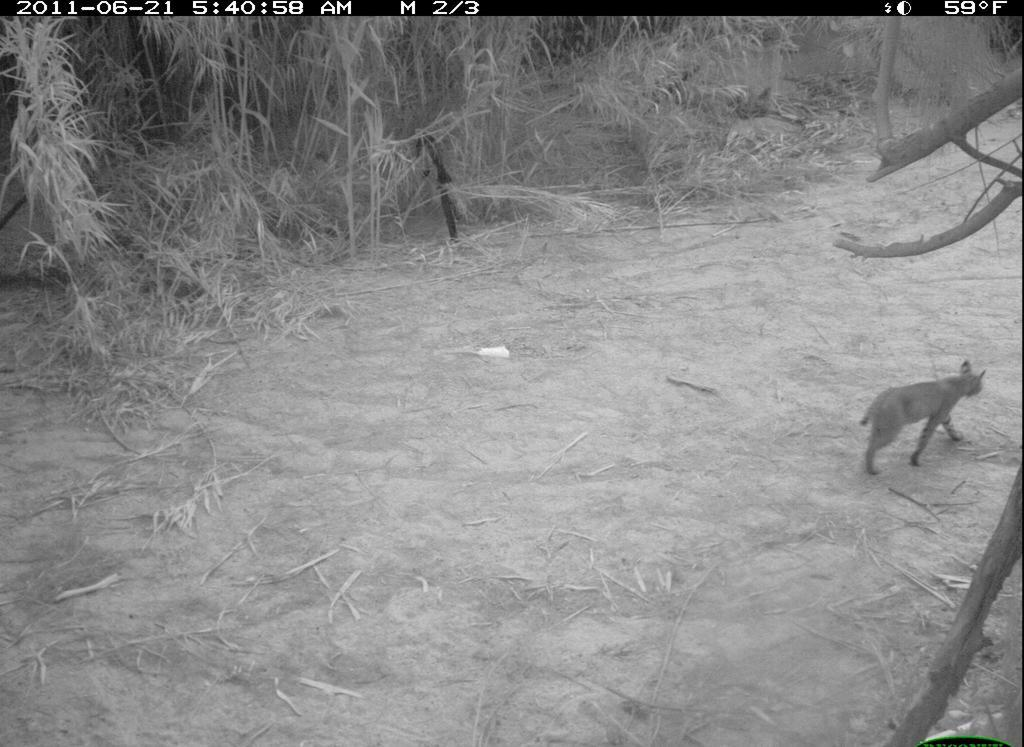bobcat: (850, 353, 994, 482)
